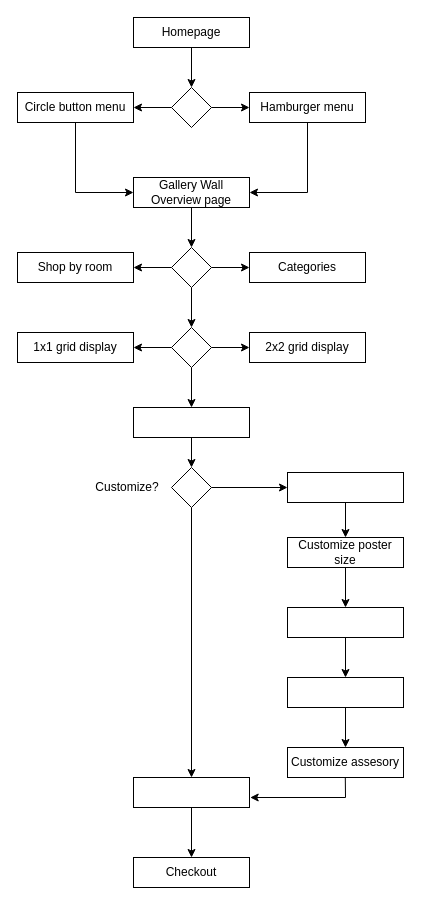
The diagram is 421 pixels wide and 905 high, and some of its shapes have lost their labels. The centre of each missing label's shape, as x and y in pixels:
"Add to shopping bag" goes at point (191, 792).
"Customize frame" goes at point (345, 622).
"Customize passe-partout" goes at point (345, 692).
"Enter gallery wall" goes at point (191, 422).
"Remove poster" goes at point (345, 487).
